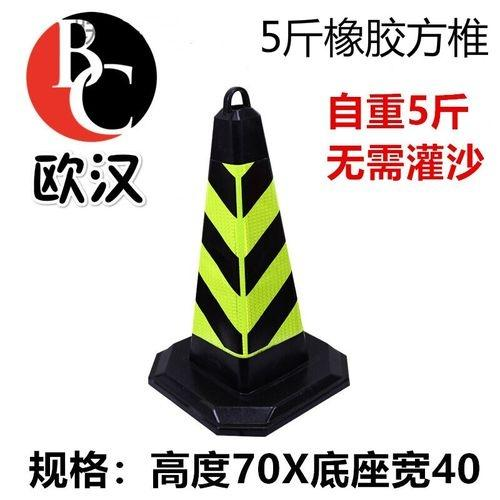cone_barrel: (159, 100, 340, 422)
